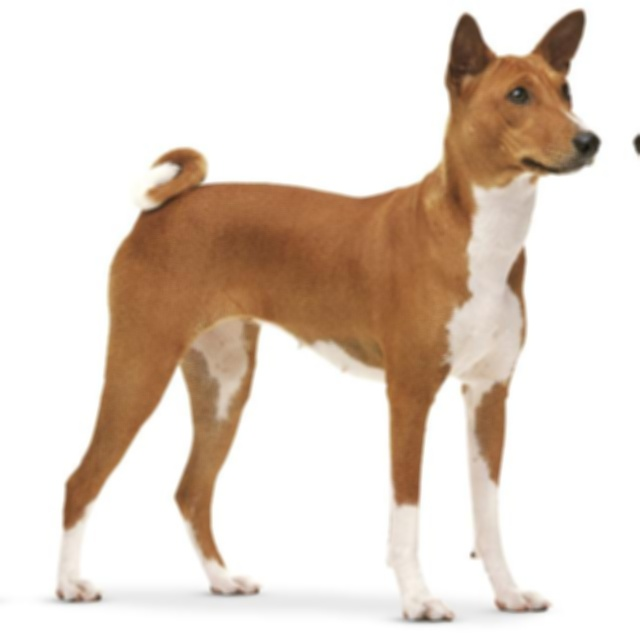dog: (402, 4, 615, 192), (621, 4, 640, 191)
